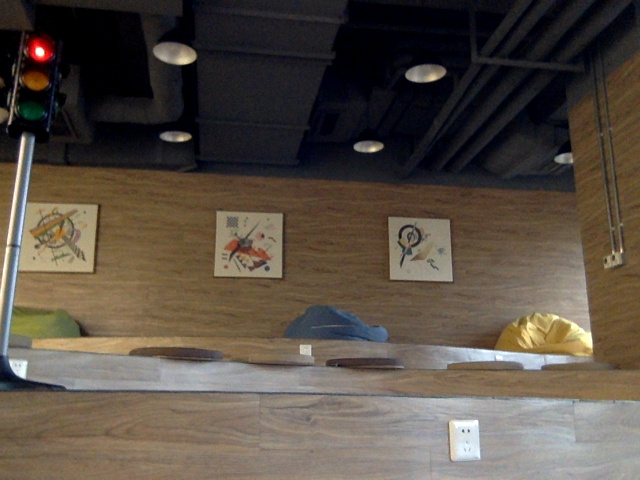red: (19, 34, 55, 126)
